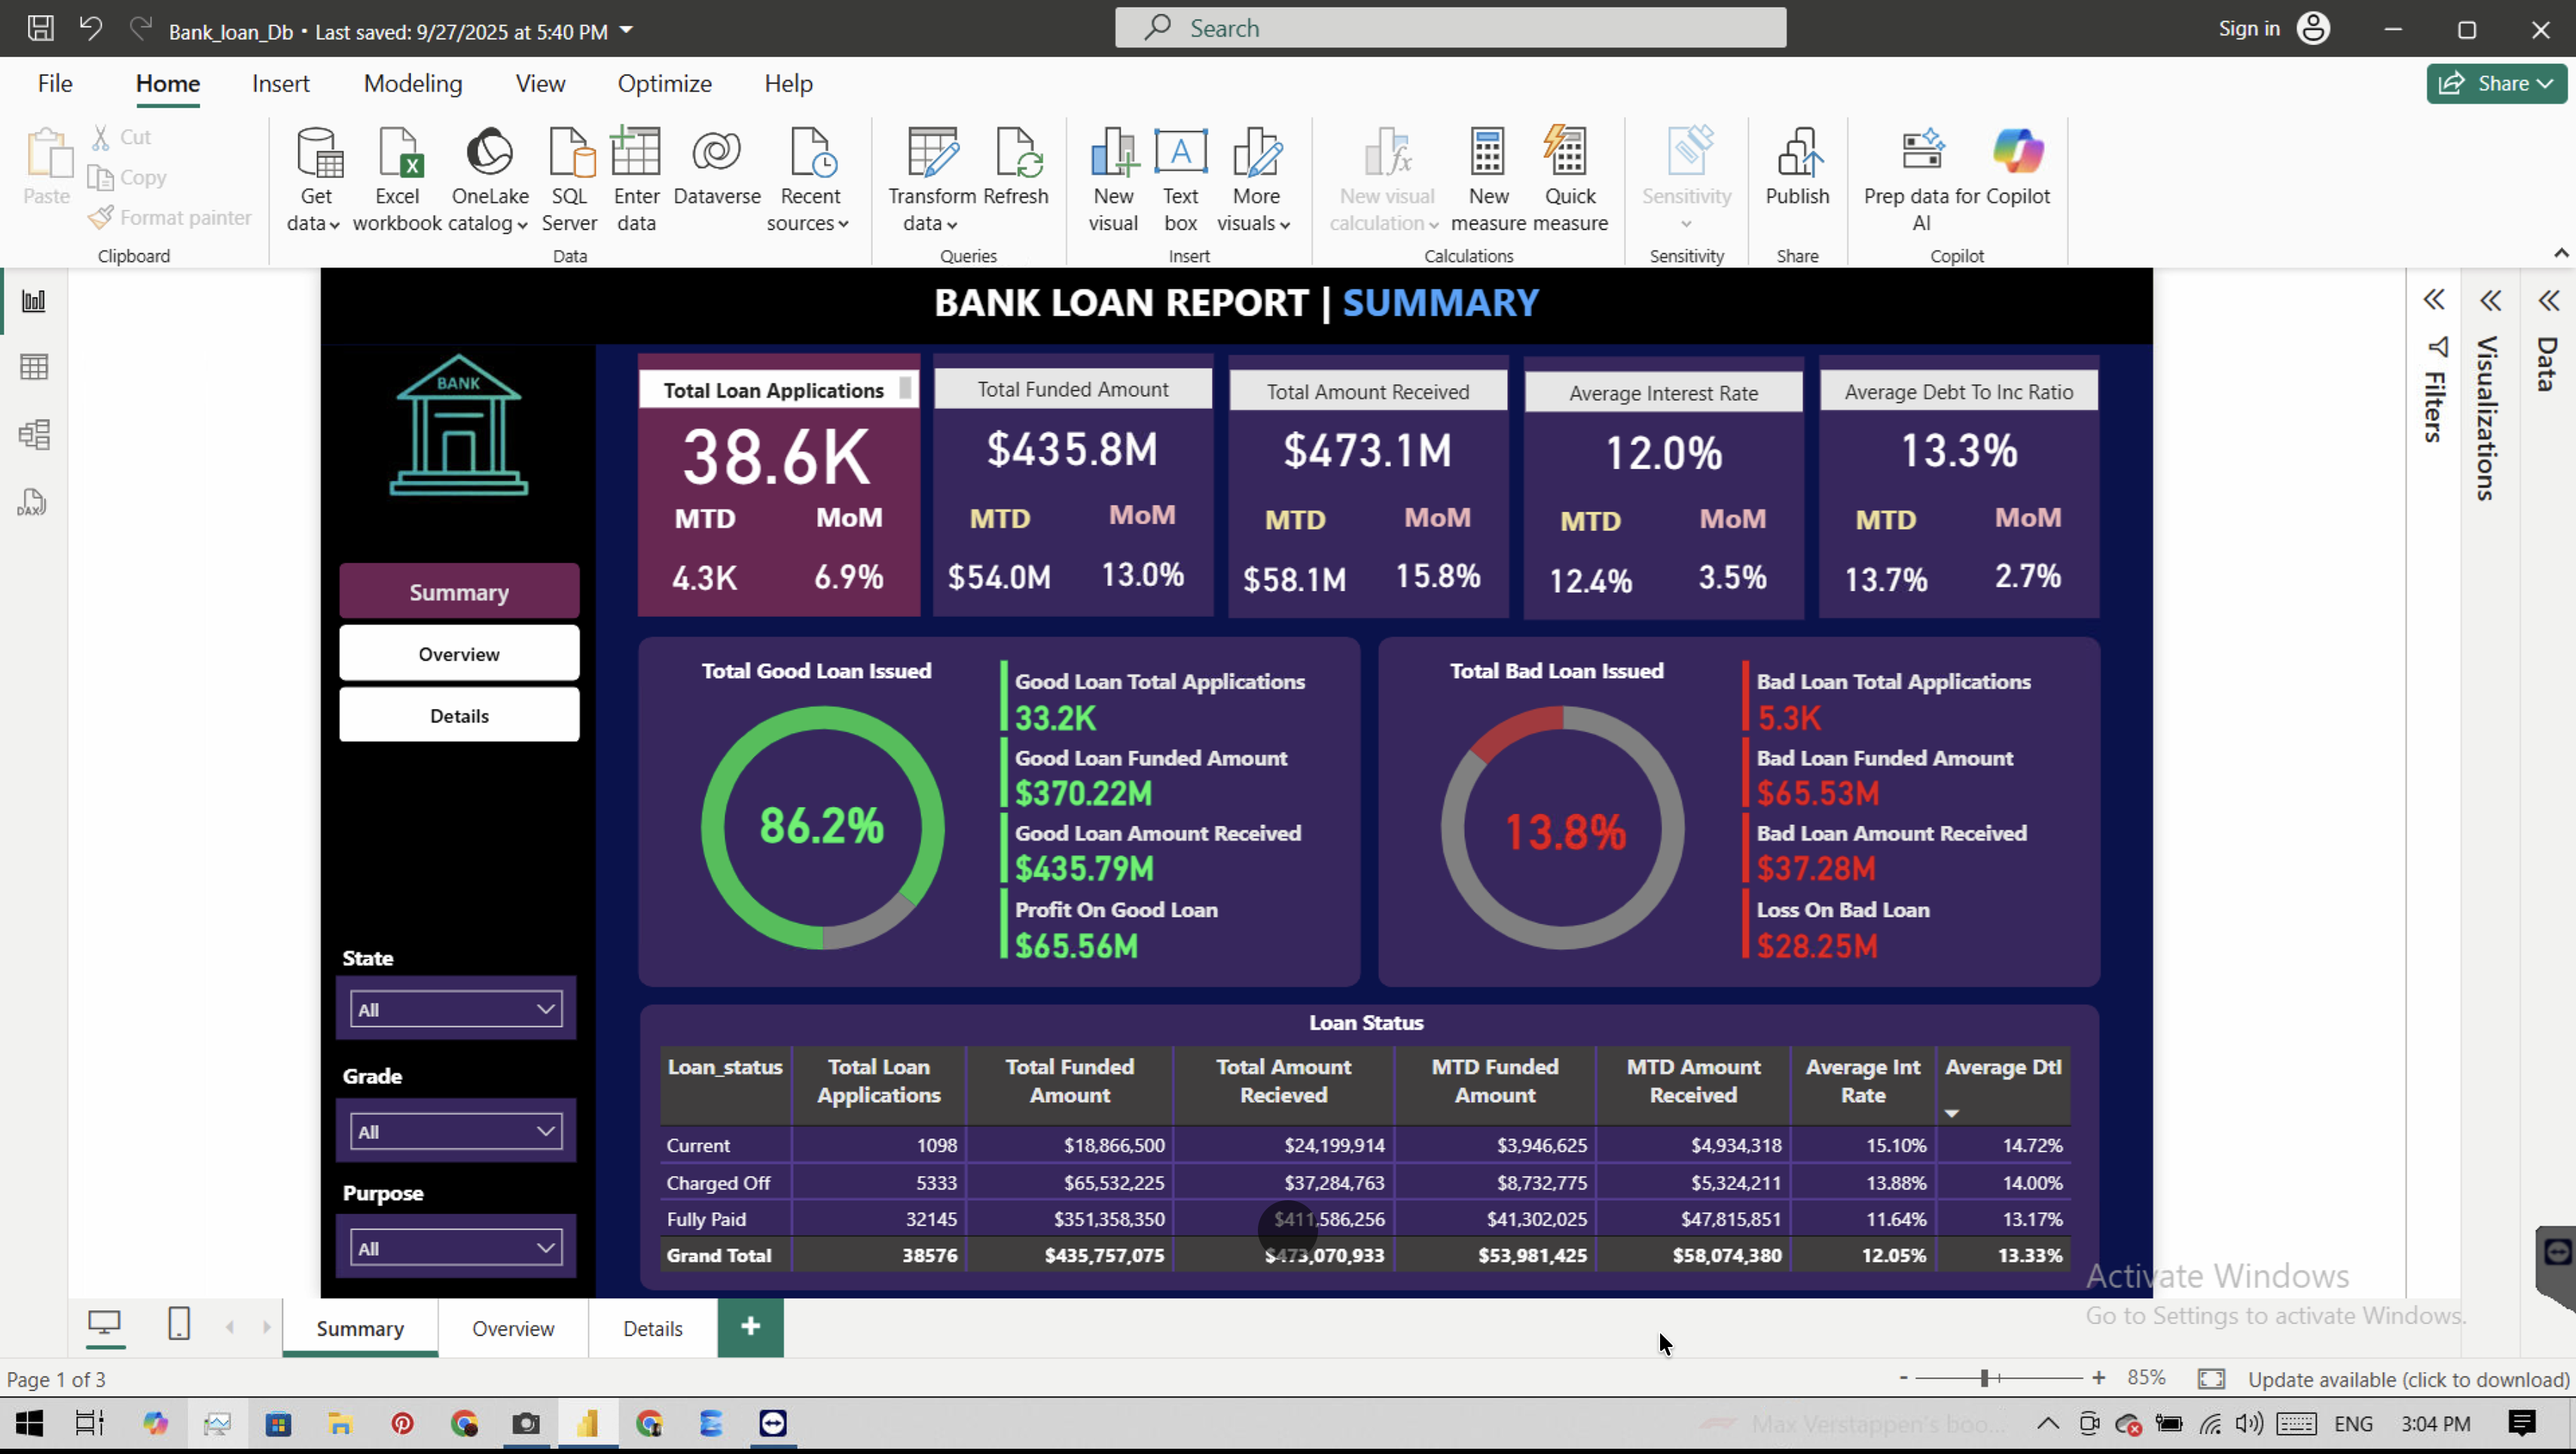

The page's visual inventory and layout, read from the dashboard file:
{"tool":"powerbi","page":{"name":"Summary","canvas":[1280,720],"ordinal":0},"visuals":[{"type":"shape","box":[221.7,59.3,197.4,183.9],"z":0,"group":"g1"},{"type":"shape","box":[428.3,59.9,196.2,183.9],"z":0,"group":"g2"},{"type":"shape","box":[633.7,60.5,196.2,183.9],"z":0,"group":"g3"},{"type":"shape","box":[1046.4,61.3,196.2,183.9],"z":0,"group":"g5"},{"type":"shape","box":[839.8,61.9,196.2,183.9],"z":0,"group":"g4"},{"type":"shape","box":[221.7,257.4,505.1,244.7],"z":0},{"type":"card","fields":{"Values":["financial_loans_clean.Total Loan Applications"]},"box":[245.2,89.5,146.3,70],"z":1000,"group":"g1"},{"type":"card","fields":{"Values":["financial_loans_clean.Total Funded Amount"]},"box":[439,89.6,174.3,70],"z":1000,"group":"g2"},{"type":"card","fields":{"Values":["financial_loans_clean.Total Amount Recieved"]},"box":[644.4,90.2,174.3,70],"z":1000,"group":"g3"},{"type":"card","fields":{"Values":["financial_loans_clean.Average DtI"]},"box":[1057.1,91,174.3,70],"z":1000,"group":"g5"},{"type":"card","fields":{"Values":["financial_loans_clean.Average Int Rate"]},"box":[850.5,91.6,174.3,70],"z":1000,"group":"g4"},{"type":"shape","box":[222.9,514.8,1019.8,200],"z":1000},{"type":"shape","box":[0,0,1280.3,53.5],"z":2000},{"type":"textbox","box":[429.7,70.9,193.5,28],"z":2000,"group":"g2"},{"type":"textbox","box":[222.9,71.4,195,26.7],"z":2000,"group":"g1"},{"type":"textbox","box":[635.1,71.5,193.5,28],"z":2000,"group":"g3"},{"type":"textbox","box":[1047.8,72.3,193.5,28],"z":2000,"group":"g5"},{"type":"textbox","box":[841.2,72.9,193.5,28],"z":2000,"group":"g4"},{"type":"shape","box":[0,53.5,192.1,666.9],"z":3000},{"type":"card","title":"MTD","fields":{"Values":["financial_loans_clean.MTD Loan Applications"]},"box":[221.7,160.9,93.9,83.7],"z":3000,"group":"g1"},{"type":"card","title":"MTD","fields":{"Values":["financial_loans_clean.MTD Funded Amount"]},"box":[428.3,161.4,93.3,83.7],"z":3000,"group":"g2"},{"type":"card","title":"MTD","fields":{"Values":["financial_loans_clean.MTD Total Amount Received"]},"box":[633.7,162,93.3,83.7],"z":3000,"group":"g3"},{"type":"card","title":"MTD","fields":{"Values":["financial_loans_clean.MTD Debt To Income Ratio"]},"box":[1046.4,162.8,93.3,83.7],"z":3000,"group":"g5"},{"type":"card","title":"MTD","fields":{"Values":["financial_loans_clean.MTD Int Rate"]},"box":[839.8,163.4,93.3,83.7],"z":3000,"group":"g4"},{"type":"textbox","box":[418.4,0,443,53.9],"z":4000},{"type":"card","title":"MoM","fields":{"Values":["financial_loans_clean.MoM Loan Applications"]},"box":[322.5,159.5,93.9,83.7],"z":4000,"group":"g1"},{"type":"card","title":"MoM","fields":{"Values":["financial_loans_clean.MoMFunded Amount"]},"box":[528.5,160.1,93.3,83.7],"z":4000,"group":"g2"},{"type":"card","title":"MoM","fields":{"Values":["financial_loans_clean.MoM Amount Received"]},"box":[733.9,160.7,93.3,83.7],"z":4000,"group":"g3"},{"type":"card","title":"MoM","fields":{"Values":["financial_loans_clean.MoM AVG DtI"]},"box":[1146.6,161.5,93.3,83.7],"z":4000,"group":"g5"},{"type":"card","title":"MoM","fields":{"Values":["financial_loans_clean.MoM AVG INT RATE"]},"box":[940,162.1,93.3,83.7],"z":4000,"group":"g4"},{"type":"group","id":"g1","title":"Group 1","box":[221.7,59.3,197.4,185.3],"z":5000},{"type":"group","id":"g2","title":"Group 1","box":[428.3,59.9,196.2,185.2],"z":6000},{"type":"group","id":"g3","title":"Group 1","box":[633.7,60.5,196.9,185.2],"z":7000},{"type":"group","id":"g4","title":"Group 1","box":[839.8,61.9,197.4,184.1],"z":8000},{"type":"group","id":"g5","title":"Group 1","box":[1046.4,61.3,197.4,184.1],"z":9000},{"type":"shape","box":[738.8,258,505.1,245],"z":10000},{"type":"donutChart","fields":{"Category":["financial_loans_clean.Good vs Bad Loan"],"Y":["financial_loans_clean.Total Loan Applications"]},"box":[226.5,281,249.5,222.9],"z":10000,"group":"g6"},{"type":"card","fields":{"Values":["financial_loans_clean.Good Loan Percentage"]},"box":[299.2,360.9,103,52.1],"z":11000},{"type":"group","id":"g6","title":"Group 2","box":[226.5,266.5,489.3,237.4],"z":12000},{"type":"textbox","box":[261.6,266.5,179.3,30.3],"z":12000,"group":"g6"},{"type":"cardVisual","fields":{"Data":["financial_loans_clean.Good Loan Total APplications","financial_loans_clean.Good Loan Funded Amount","financial_loans_clean.Good Loan Amount Received","financial_loans_clean.Profit On Good Loan"]},"box":[470,270.1,245.9,219.2],"z":13000,"group":"g6"},{"type":"textbox","box":[685.5,512.3,98.1,30.3],"z":13000},{"type":"group","id":"g7","title":"Group 3","box":[742.5,266.5,490.5,237.4],"z":14000},{"type":"donutChart","fields":{"Category":["financial_loans_clean.Good vs Bad Loan"],"Y":["financial_loans_clean.Total Loan Applications"]},"box":[742.5,281,249.5,222.9],"z":14000,"group":"g7"},{"type":"card","fields":{"Values":["financial_loans_clean.Bad Loan Percentage"]},"box":[815.2,365.8,106.6,52.1],"z":15000,"group":"g7"},{"type":"tableEx","fields":{"Values":["financial_loans_clean.loan_status","financial_loans_clean.Total Loan Applications","financial_loans_clean.Total Funded Amount","financial_loans_clean.Total Amount Recieved","financial_loans_clean.MTD Funded Amount","financial_loans_clean.MTD Total Amount Received","financial_loans_clean.Average Int Rate","financial_loans_clean.Average DtI"]},"box":[231.3,539,1001.7,168.4],"z":15000},{"type":"textbox","box":[783.7,266.5,168,30.3],"z":16000,"group":"g7"},{"type":"slicer","title":"efve","fields":{"Values":["financial_loans_clean.address_state"]},"box":[10.9,495.1,168.4,44.8],"z":16000},{"type":"cardVisual","fields":{"Data":["Date Table.Bad Loan Total Applications","financial_loans_clean.Bad Loan Funded Amount","financial_loans_clean.Bad Loan Amount Received","financial_loans_clean.Loss On Bad Loan"]},"box":[987.2,270.1,245.9,219.2],"z":17000,"group":"g7"},{"type":"textbox","box":[10.9,466,98.1,30.3],"z":17000},{"type":"slicer","fields":{"Values":["financial_loans_clean.grade"]},"box":[10.9,579.8,168.4,44.8],"z":18000},{"type":"textbox","box":[10.9,549.6,98.1,30.3],"z":19000},{"type":"slicer","fields":{"Values":["financial_loans_clean.purpose"]},"box":[10.9,661,168.4,44.8],"z":20000},{"type":"textbox","box":[10.9,630.7,98.1,30.3],"z":21000},{"type":"image","box":[12.9,38.7,167.6,141.8],"z":21001},{"type":"pageNavigator","box":[12.9,206.3,168.8,125.4],"z":21002}]}

Visuals, with their boxes on the page's 1280x720 design canvas (x1, y1, x2, y2). These are canvas units, not pixel positions in the 2576x1454 screenshot, which may show the page scaled, cropped or inside an application window:
shape: (222,59,419,243)
shape: (428,60,624,244)
shape: (634,60,830,244)
shape: (1046,61,1243,245)
shape: (840,62,1036,246)
shape: (222,257,727,502)
card - financial_loans_clean.Total Loan Applications: (245,90,392,160)
card - financial_loans_clean.Total Funded Amount: (439,90,613,160)
card - financial_loans_clean.Total Amount Recieved: (644,90,819,160)
card - financial_loans_clean.Average DtI: (1057,91,1231,161)
card - financial_loans_clean.Average Int Rate: (850,92,1025,162)
shape: (223,515,1243,715)
shape: (0,0,1280,54)
textbox: (430,71,623,99)
textbox: (223,71,418,98)
textbox: (635,72,829,100)
textbox: (1048,72,1241,100)
textbox: (841,73,1035,101)
shape: (0,54,192,720)
"MTD" card: (222,161,316,245)
"MTD" card: (428,161,522,245)
"MTD" card: (634,162,727,246)
"MTD" card: (1046,163,1140,246)
"MTD" card: (840,163,933,247)
textbox: (418,0,861,54)
"MoM" card: (322,160,416,243)
"MoM" card: (528,160,622,244)
"MoM" card: (734,161,827,244)
"MoM" card: (1147,162,1240,245)
"MoM" card: (940,162,1033,246)
"Group 1" group: (222,59,419,245)
"Group 1" group: (428,60,624,245)
"Group 1" group: (634,60,831,246)
"Group 1" group: (840,62,1037,246)
"Group 1" group: (1046,61,1244,245)
shape: (739,258,1244,503)
donutChart - financial_loans_clean.Good vs Bad Loan x financial_loans_clean.Total Loan Applications: (226,281,476,504)
card - financial_loans_clean.Good Loan Percentage: (299,361,402,413)
"Group 2" group: (226,266,716,504)
textbox: (262,266,441,297)
cardVisual - financial_loans_clean.Good Loan Total APplications x financial_loans_clean.Good Loan Funded Amount: (470,270,716,489)
textbox: (686,512,784,543)
"Group 3" group: (742,266,1233,504)
donutChart - financial_loans_clean.Good vs Bad Loan x financial_loans_clean.Total Loan Applications: (742,281,992,504)
card - financial_loans_clean.Bad Loan Percentage: (815,366,922,418)
tableEx - financial_loans_clean.loan_status x financial_loans_clean.Total Loan Applications: (231,539,1233,707)
textbox: (784,266,952,297)
"efve" slicer: (11,495,179,540)
cardVisual - Date Table.Bad Loan Total Applications x financial_loans_clean.Bad Loan Funded Amount: (987,270,1233,489)
textbox: (11,466,109,496)
slicer - financial_loans_clean.grade: (11,580,179,625)
textbox: (11,550,109,580)
slicer - financial_loans_clean.purpose: (11,661,179,706)
textbox: (11,631,109,661)
image: (13,39,180,180)
pageNavigator: (13,206,182,332)
